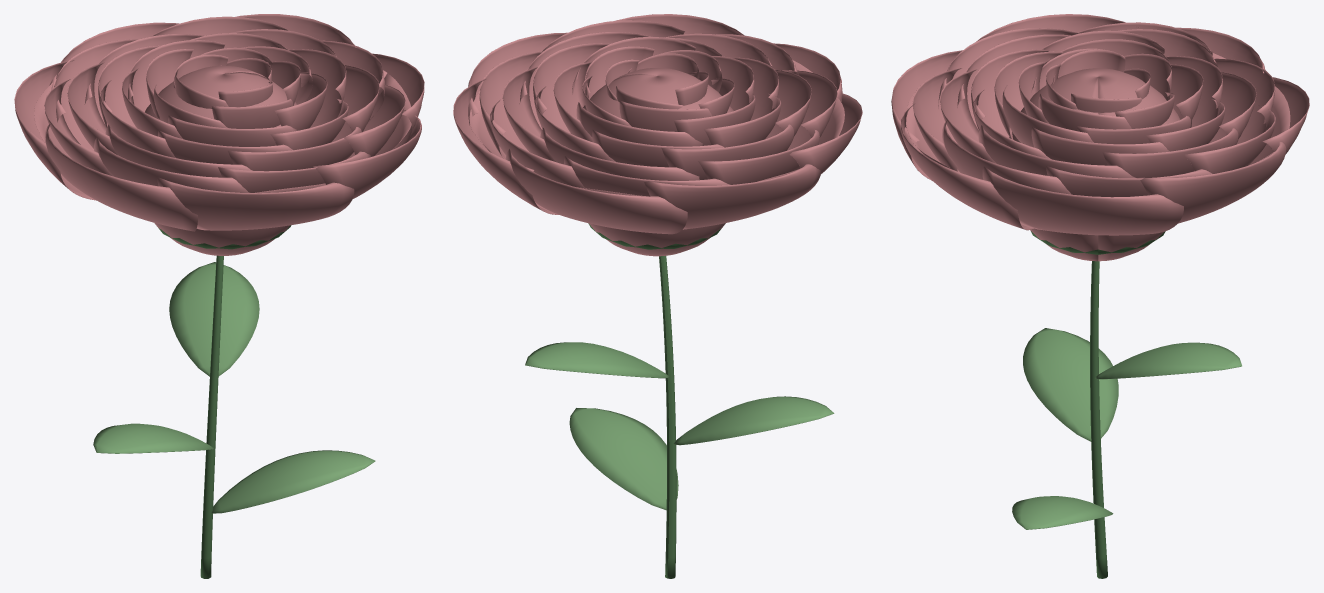
Rendered from rose-legendary-v2.glb.
3 views of the same model, side by side, from view 1: azimuth 30°, elevation 25°; view 2: azimuth 150°, elevation 25°; view 3: azimuth 270°, elevation 25° (orthographic). The views are drawn at different scales.
Parts seen in each view (by area): view 1: rose-legendary-v2-petal, rose-legendary-v2-leaf, rose-legendary-v2-stem; view 2: rose-legendary-v2-petal, rose-legendary-v2-leaf, rose-legendary-v2-stem; view 3: rose-legendary-v2-petal, rose-legendary-v2-leaf, rose-legendary-v2-stem.
Part boxes in pixels (left/top/right/bottom): rose-legendary-v2-petal: left=14, top=14, right=424, bottom=255; rose-legendary-v2-leaf: left=93, top=262, right=375, bottom=513; rose-legendary-v2-stem: left=158, top=225, right=291, bottom=578; rose-legendary-v2-petal: left=453, top=14, right=862, bottom=256; rose-legendary-v2-leaf: left=525, top=342, right=834, bottom=510; rose-legendary-v2-stem: left=588, top=223, right=722, bottom=578; rose-legendary-v2-petal: left=891, top=14, right=1309, bottom=261; rose-legendary-v2-leaf: left=1012, top=328, right=1241, bottom=529; rose-legendary-v2-stem: left=1031, top=231, right=1165, bottom=578.
Bounding box in the file's own units: 1.28 × 1.73 × 1.28.
